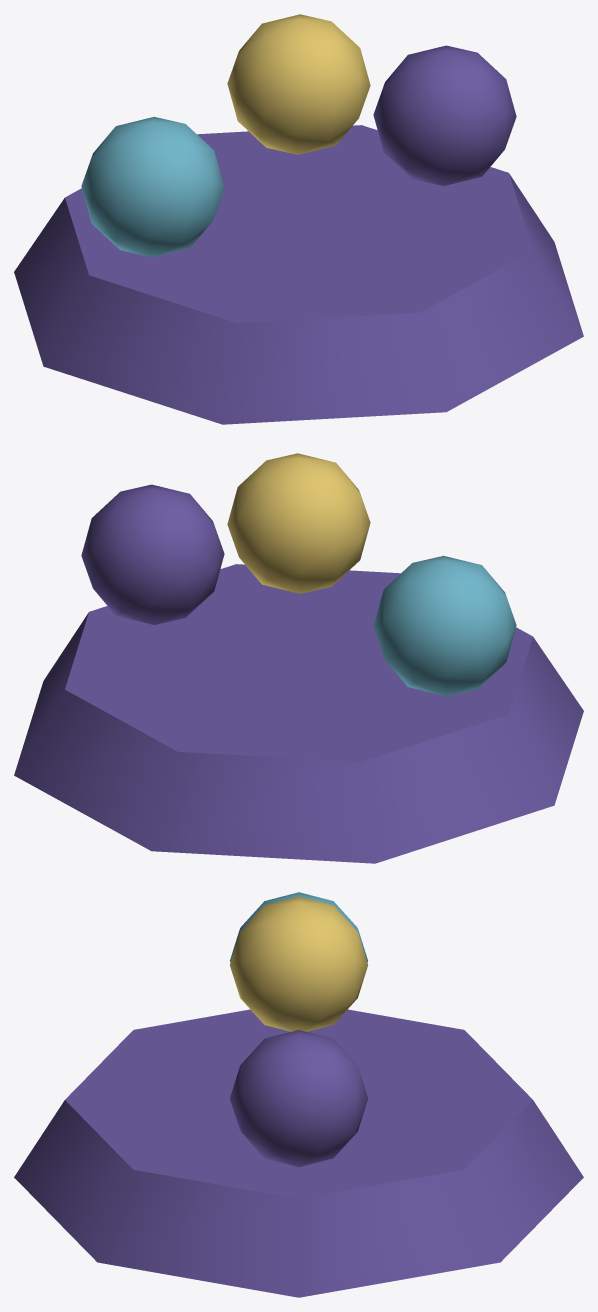
Rendered from rune_node.glb.
3 views of the same model, one above another, from view 1: azimuth 30°, elevation 25°; view 2: azimuth 150°, elevation 25°; view 3: azimuth 270°, elevation 25° (orthographic). The views are drawn at different scales.
Parts seen in each view (by area): view 1: rune_base, rune_0, rune_2, rune_1; view 2: rune_base, rune_0, rune_2, rune_1; view 3: rune_base, rune_2, rune_1, rune_0.
Part boxes in pixels (x1,y1,x2,y2): rune_base: (14, 125, 583, 424); rune_0: (81, 116, 224, 257); rune_2: (373, 45, 516, 185); rune_1: (227, 14, 370, 154); rune_base: (14, 564, 583, 863); rune_0: (373, 555, 516, 696); rune_2: (81, 484, 224, 624); rune_1: (227, 453, 370, 593); rune_base: (14, 1009, 583, 1297); rune_2: (230, 1030, 367, 1167); rune_1: (230, 896, 367, 1031); rune_0: (230, 892, 367, 962).
Size of what is drawn, in the model's own units: 2.8 by 1.49 by 2.8.
